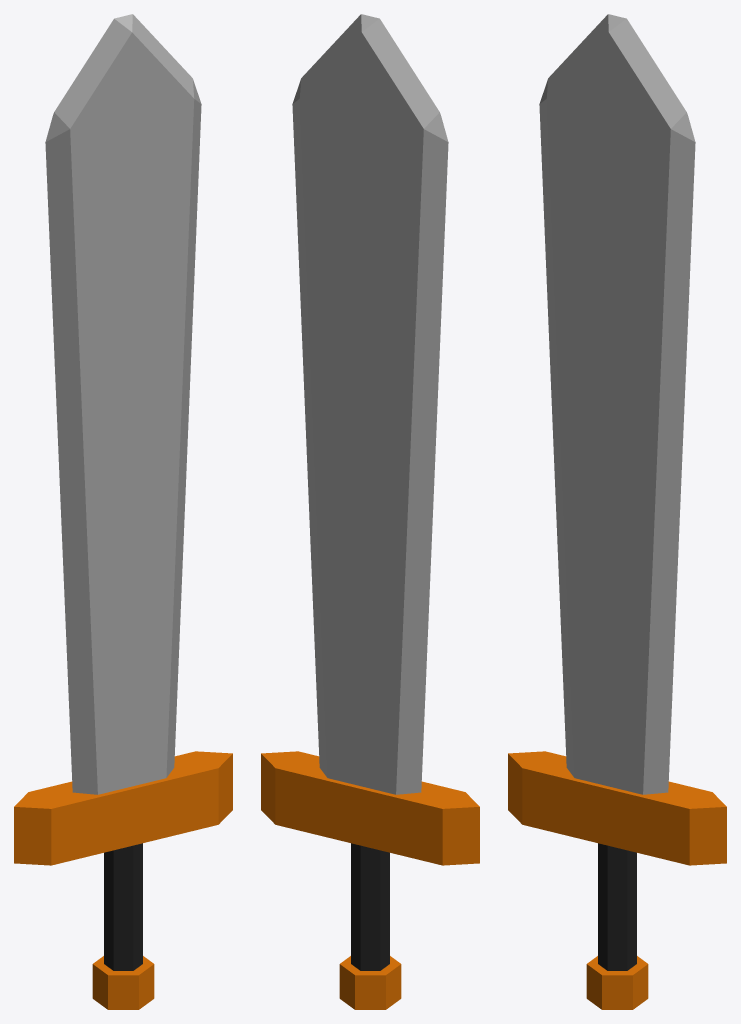
The model's file is Weapon_FM_Long_Sword.glb.
The picture shows the model from 3 angles, left to right: view 1: azimuth 30°, elevation 25°; view 2: azimuth 150°, elevation 25°; view 3: azimuth 330°, elevation 25°; orthographic projection.
Visible parts, largest first — view 1: Weapon_Long_Sword; view 2: Weapon_Long_Sword; view 3: Weapon_Long_Sword.
Part boxes in pixels (box(x1,y1,x2,y2)): Weapon_Long_Sword: box(14, 14, 232, 1009); Weapon_Long_Sword: box(261, 14, 479, 1009); Weapon_Long_Sword: box(508, 14, 726, 1009).
Size of the model in its own units: 0.2564 by 1.1 by 0.0625.
